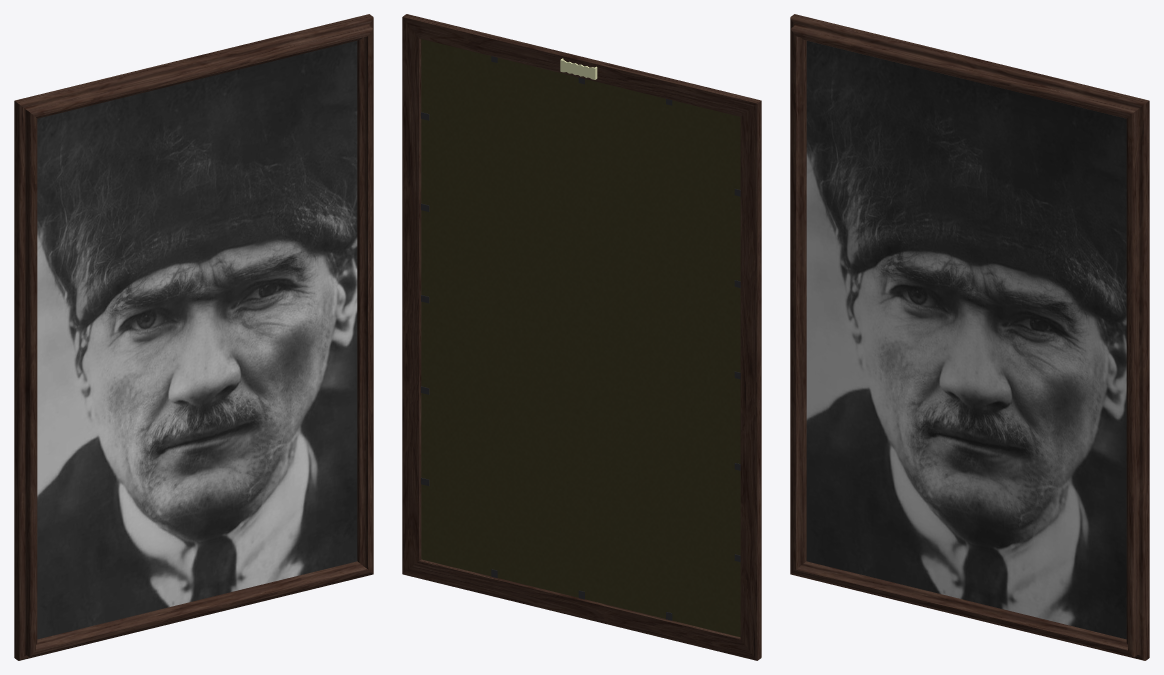
Rendered from wooden_picture_frame.fbx.
3 views of the same model, side by side, from view 1: azimuth 30°, elevation 25°; view 2: azimuth 150°, elevation 25°; view 3: azimuth 330°, elevation 25° (orthographic).
Visible parts, largest first — view 1: wooden_picture_frame_0; view 2: wooden_picture_frame_0; view 3: wooden_picture_frame_0.
Part boxes in pixels (bbox=[...]): wooden_picture_frame_0: bbox=[14, 14, 373, 660]; wooden_picture_frame_0: bbox=[402, 14, 761, 660]; wooden_picture_frame_0: bbox=[790, 14, 1149, 660].
Size of the model in its own units: 0.61 by 0.915 by 0.0363.
1 material, 1 textured.
